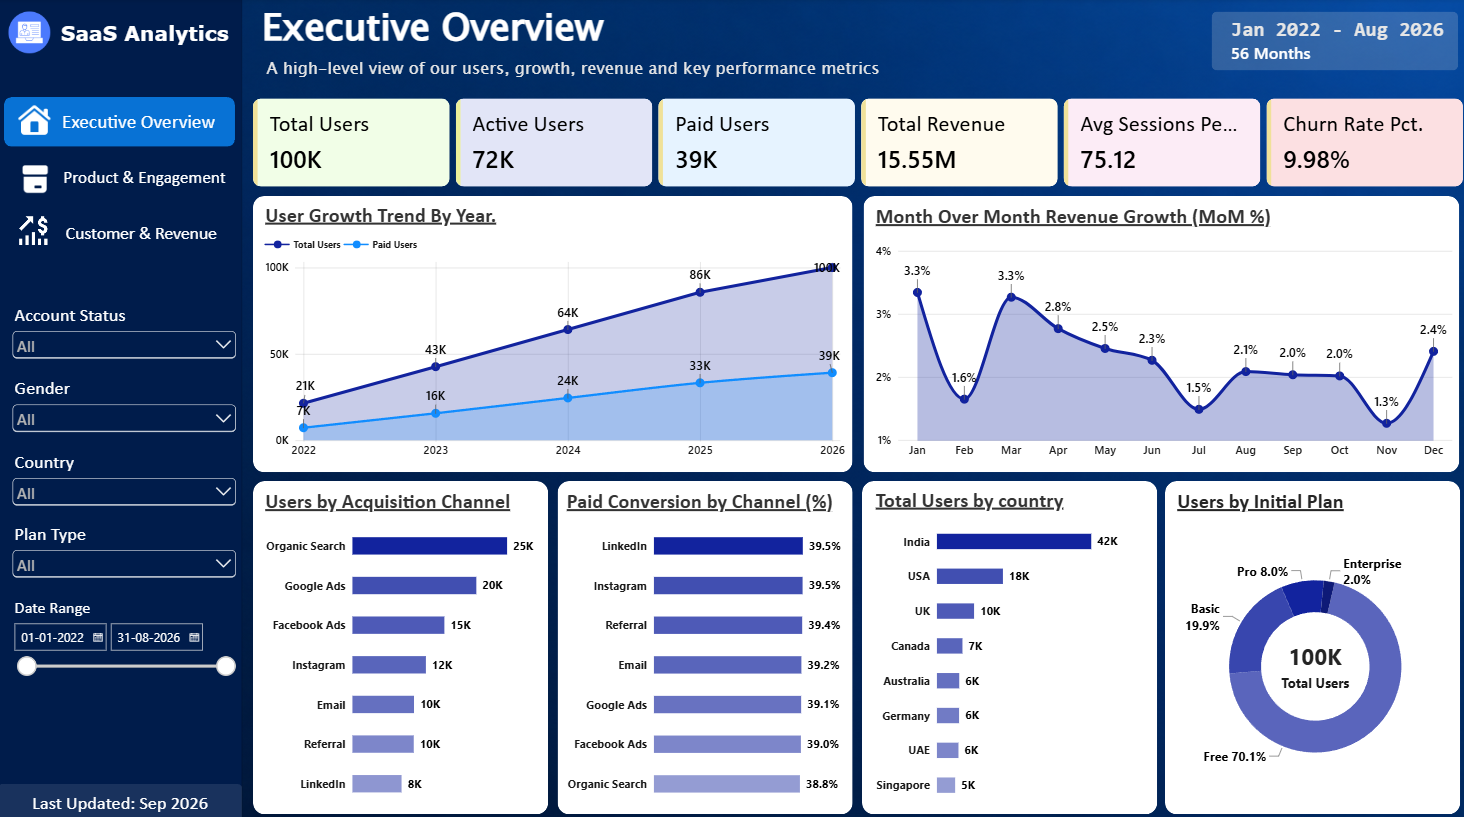

The page's visual inventory and layout, read from the dashboard file:
{"tool":"powerbi","page":{"name":"Overview","canvas":[1920,1080],"ordinal":0},"visuals":[{"type":"shape","box":[0,0,320,1076],"z":0},{"type":"textbox","box":[81.8,29.5,233.9,59.1],"z":1000},{"type":"image","box":[13.6,18.2,54.5,54.5],"z":2000},{"type":"textbox","box":[345.1,2.2,841.3,127.3],"z":3000},{"type":"cardVisual","fields":{"Data":["Measure_table.Total Users","Measure_table.Active Users","Measure_table.Paid Users","Measure_table.Total Revenue","Measure_table.Avg Sessions per User","Measure_table.Churn Rate"]},"box":[333.9,131.7,1582,115.8],"z":4000},{"type":"shape","box":[333.9,258.9,784,361.1],"z":5000},{"type":"lineChart","title":"User Growth Trend By Year.","fields":{"Category":["Calendar.Year"],"Y":["Measure_table.Cumulative Users","Measure_table.Cumulative Paid Users"]},"box":[333.9,252.1,790.4,370.2],"z":6000},{"type":"shape","box":[1131.1,258.9,779.1,361.1],"z":7000},{"type":"shape","box":[1128.8,631.4,386.1,436.1],"z":8000},{"type":"lineChart","title":"Month Over Month Revenue Growth (MoM %)","fields":{"Category":["Calendar.Month Short"],"Y":["Measure_table.MoM Revenue Growth %"]},"box":[1131.1,254.4,785.9,368],"z":9000},{"type":"barChart","fields":{"Category":["users.country"],"Y":["Measure_table.Total Users"]},"box":[1131.7,625.7,400.1,449.1],"z":10000},{"type":"shape","box":[1526.3,631.4,386.1,436.1],"z":11000},{"type":"donutChart","title":"Users by Initial Plan","fields":{"Category":["users.initial_plan"],"Y":["Measure_table.Total Users"]},"box":[1526.3,626.9,392.9,452],"z":12000},{"type":"shape","box":[731.3,631.4,386,436.1],"z":13000},{"type":"shape","box":[333.9,631.4,386,436.1],"z":14000},{"type":"barChart","title":"Paid Conversion by Channel (%)","fields":{"Category":["users.acquisition_channel"],"Y":["Measure_table.Paid Conversion by Channel"]},"box":[726.8,626.9,390.7,449.7],"z":15000},{"type":"barChart","title":"Users by Acquisition Channel","fields":{"Category":["users.acquisition_channel"],"Y":["Measure_table.Total Users"]},"box":[333,627.8,387.6,449.5],"z":16000},{"type":"shape","box":[1587.6,18.2,322.5,77.2],"z":17000},{"type":"textbox","box":[1612.6,25,302.1,68.1],"z":18000},{"type":"shape","title":"E","box":[8.6,129.4,302,65],"z":19000},{"type":"image","box":[19.4,133.7,56.1,56.1],"z":20000},{"type":"shape","title":"E","box":[15.1,201.8,302,64.7],"z":21000},{"type":"image","box":[21.6,209.2,53.9,53.9],"z":22000},{"type":"shape","title":"E","box":[15.1,274,302,64.7],"z":23000},{"type":"image","box":[21.6,280.4,49.6,47.5],"z":24000},{"type":"slicer","title":"Date Range","fields":{"Values":["Calendar.Date"]},"box":[13.6,783.6,299.8,143.1],"z":25000},{"type":"slicer","fields":{"Values":["users.account_status"]},"box":[13.6,397.5,302.1,84],"z":26000},{"type":"slicer","fields":{"Values":["users.gender"]},"box":[13.6,493.4,302.1,84],"z":27000},{"type":"slicer","fields":{"Values":["users.country"]},"box":[13.6,589.4,302.1,84],"z":28000},{"type":"slicer","fields":{"Values":["users.initial_plan"]},"box":[13.6,685.4,302.1,84],"z":29000},{"type":"shape","title":"E","box":[0,1026.8,319.3,51.8],"z":30000}]}

Visuals, with their boxes in screenshot pixels (x1, y1, x2, y2):
shape: 0 0 232 816
textbox: 48 11 229 57
image: 0 3 37 45
textbox: 251 0 901 89
cardVisual - Measure_table.Total Users x Measure_table.Active Users: 243 90 1463 180
shape: 243 189 848 467
"User Growth Trend By Year." lineChart: 243 183 853 469
shape: 858 189 1460 467
shape: 857 476 1155 813
"Month Over Month Revenue Growth (MoM %)" lineChart: 858 185 1463 469
barChart - users.country x Measure_table.Total Users: 859 472 1168 816
shape: 1164 476 1462 813
"Users by Initial Plan" donutChart: 1164 473 1463 816
shape: 550 476 848 813
shape: 243 476 541 813
"Paid Conversion by Channel (%)" barChart: 546 473 848 816
"Users by Acquisition Channel" barChart: 242 473 541 816
shape: 1211 3 1460 62
textbox: 1230 8 1463 60
"E" shape: 0 89 225 139
image: 0 92 43 135
"E" shape: 0 144 230 194
image: 1 150 43 192
"E" shape: 0 200 230 250
image: 1 205 40 242
"Date Range" slicer: 0 594 227 704
slicer - users.account_status: 0 296 229 360
slicer - users.gender: 0 370 229 435
slicer - users.country: 0 444 229 509
slicer - users.initial_plan: 0 518 229 583
"E" shape: 0 782 231 816
